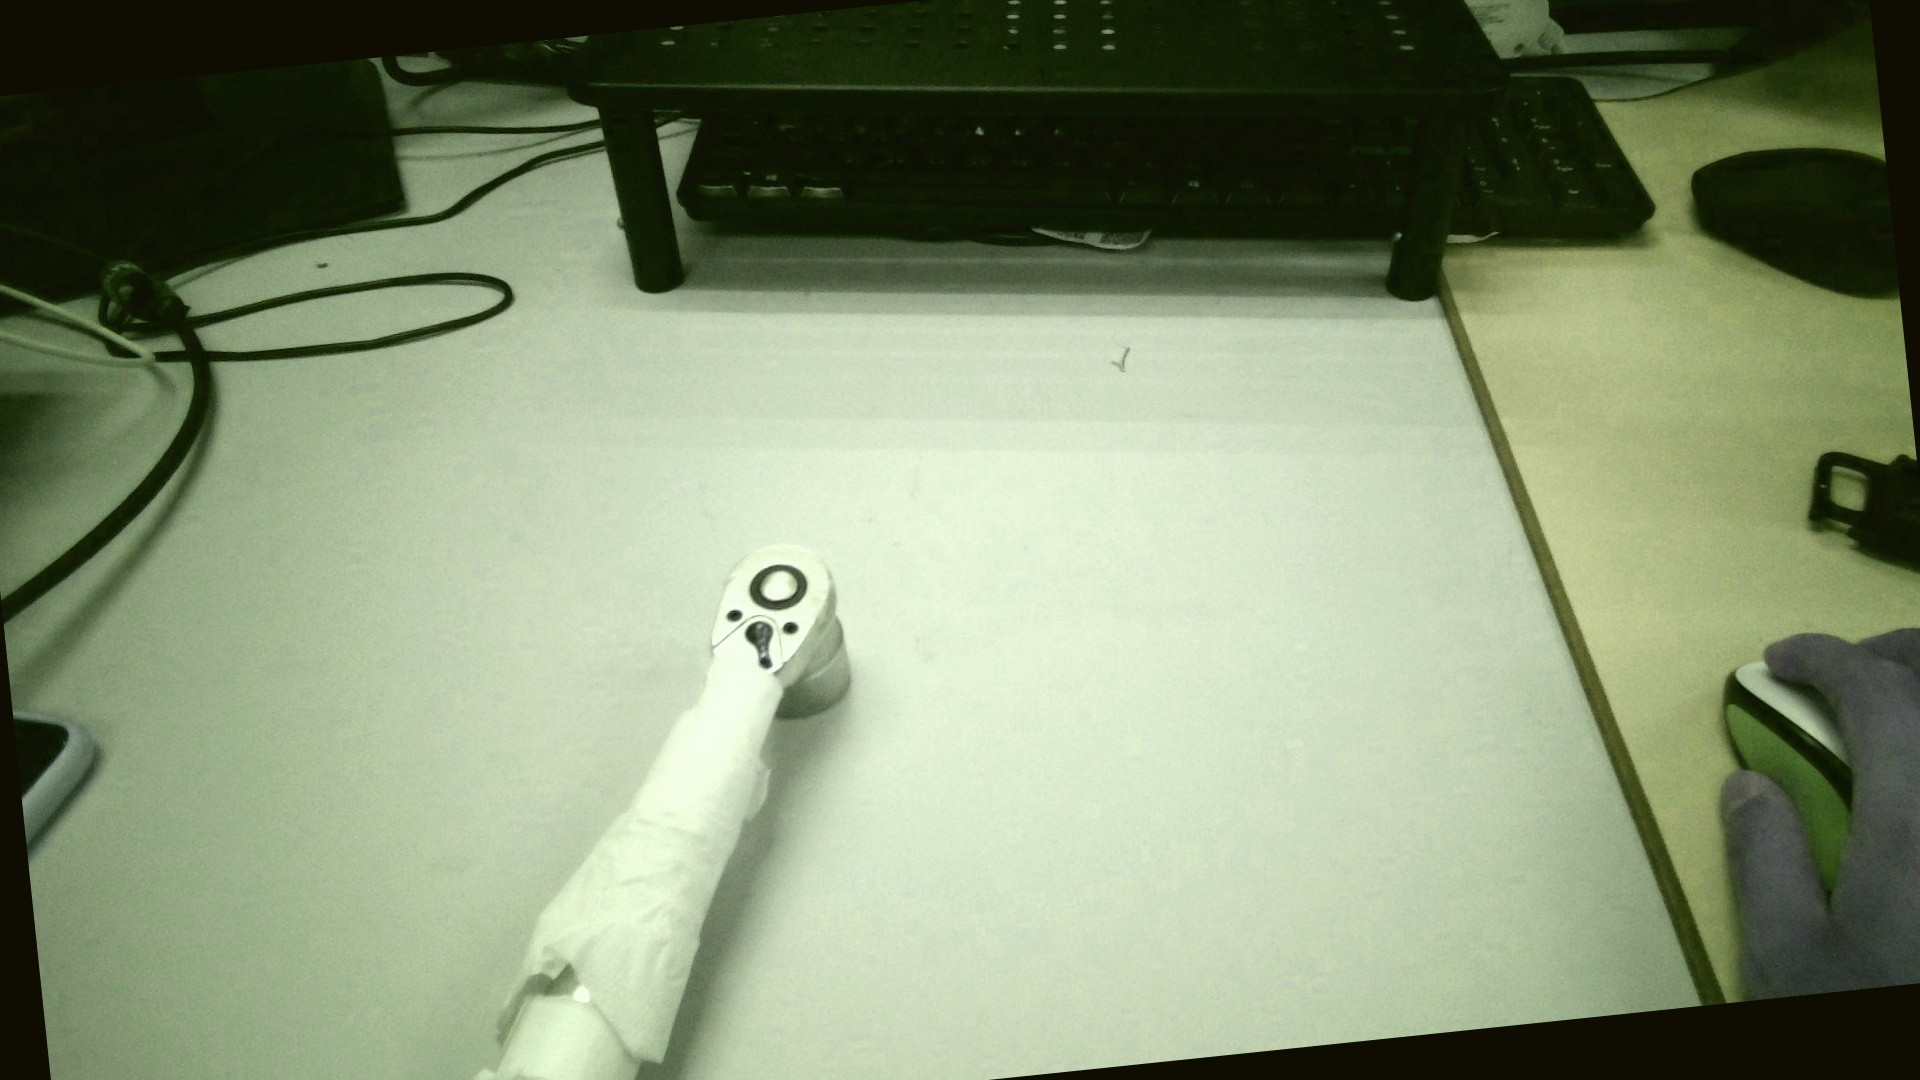wrench: (746, 558, 816, 616)
